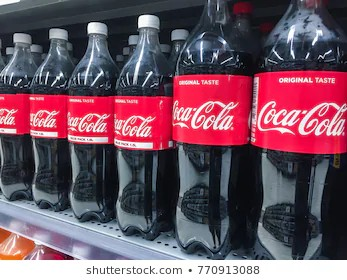coke-bottle-2l: (252, 1, 346, 262), (177, 1, 251, 257), (112, 10, 174, 233), (69, 19, 118, 223), (29, 28, 74, 209)
